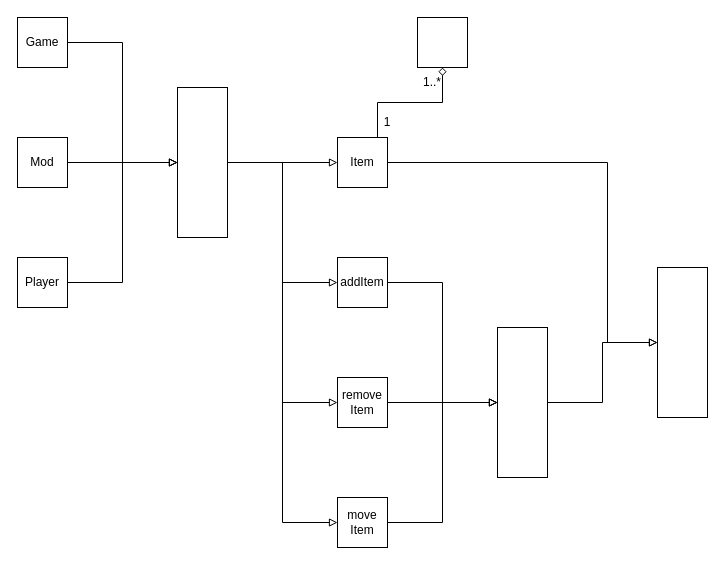
This 725x565 diagram has some shape labels left out. Each missing label, with the box of its shape:
Game System: (176, 86, 228, 238)
inventory Functions: (496, 326, 548, 478)
Inventory System: (656, 266, 708, 418)
Location: (416, 16, 468, 68)
